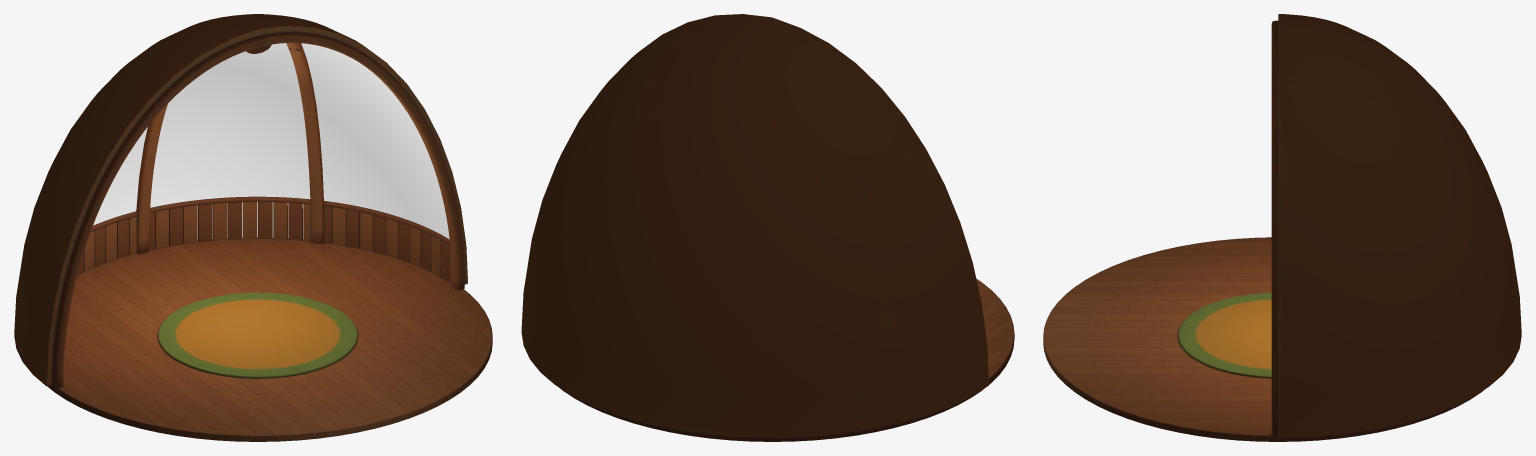
Rendered from room_shell_v3_draco_webp.glb.
3 renders of one model, left to right at view 1: azimuth 30°, elevation 25°; view 2: azimuth 150°, elevation 25°; view 3: azimuth 270°, elevation 25°, orthographic. The views are drawn at different scales.
Parts seen in each view (by area): view 1: room_dome, room_floor, round_rug, room_wainscot, room_rib_05, room_rib_01, room_rib_02, room_wainscot_rail, room_rib_03; view 2: room_dome, room_floor; view 3: room_dome, room_floor, round_rug, room_rib_01.
Boxes of the visible parts, left/top/right/bottom form: room_dome: left=14, top=14, right=467, bottom=386; room_floor: left=47, top=237, right=492, bottom=441; round_rug: left=158, top=292, right=357, bottom=378; room_wainscot: left=77, top=201, right=452, bottom=283; room_rib_05: left=52, top=37, right=260, bottom=388; room_rib_01: left=258, top=32, right=464, bottom=290; room_rib_02: left=259, top=37, right=323, bottom=243; room_wainscot_rail: left=90, top=196, right=450, bottom=245; room_rib_03: left=136, top=104, right=167, bottom=253; room_dome: left=521, top=14, right=988, bottom=437; room_floor: left=560, top=279, right=1014, bottom=441; room_dome: left=1278, top=14, right=1521, bottom=437; room_floor: left=1043, top=237, right=1484, bottom=441; round_rug: left=1178, top=292, right=1271, bottom=377; room_rib_01: left=1271, top=37, right=1278, bottom=436.
Size of the model in its own units: 6.74 by 4.78 by 6.62.
3 materials, 3 textured.
